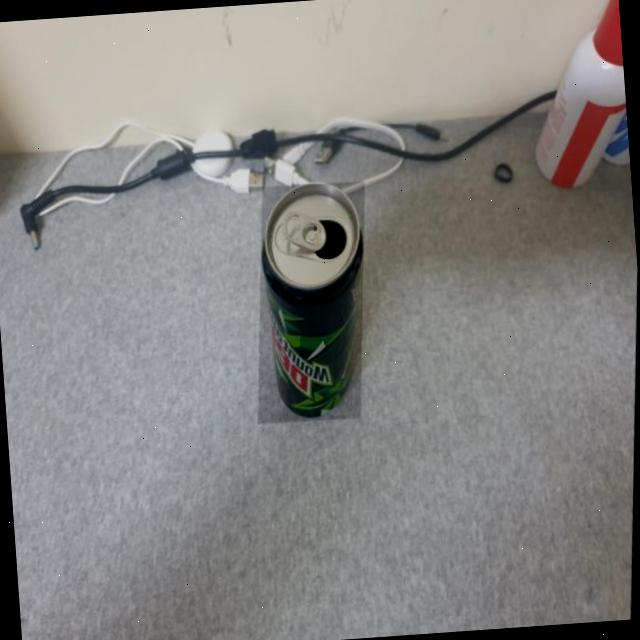trash: (246, 174, 380, 425)
